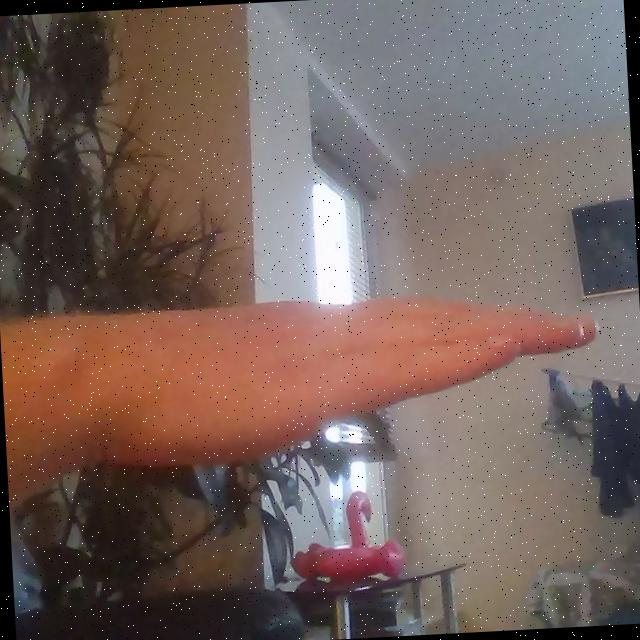papper: (79, 277, 616, 485)
